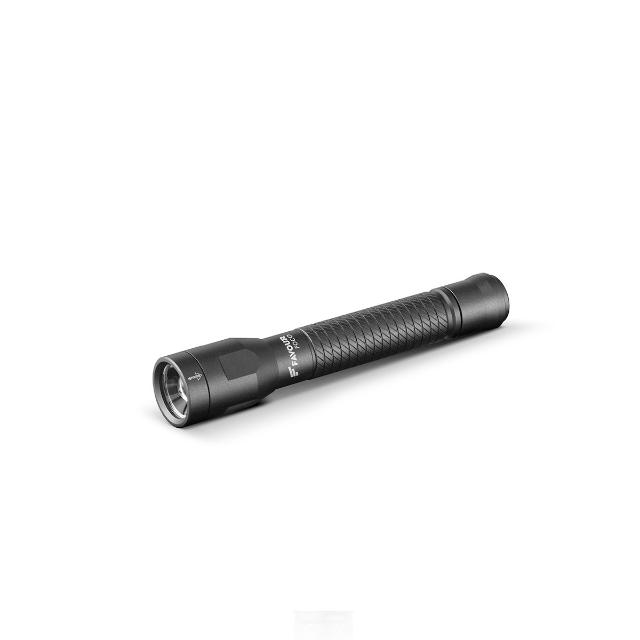Flashlight: (146, 266, 518, 432)
